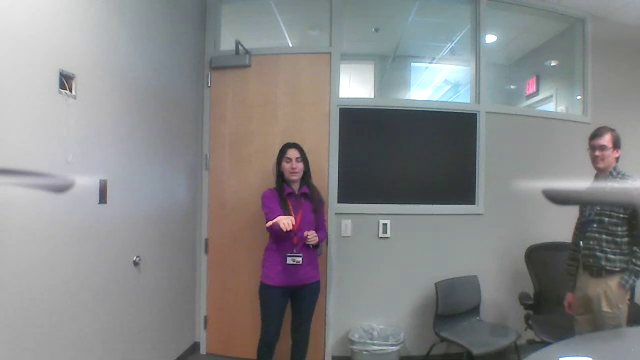land: (259, 212, 302, 233)
